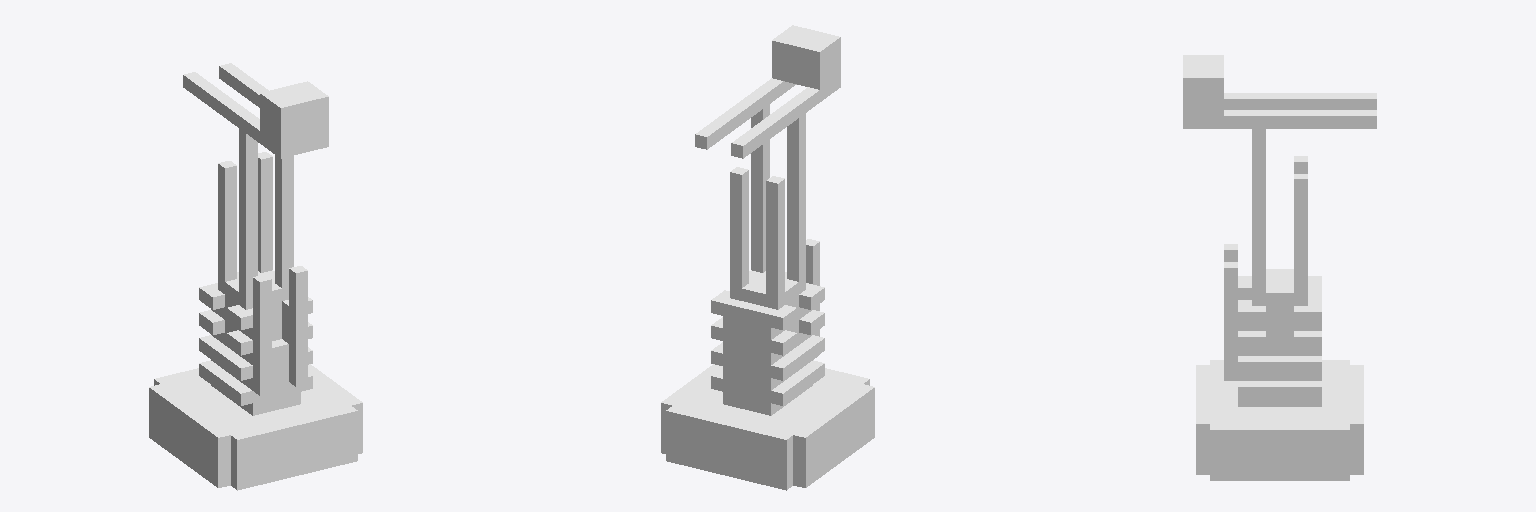
Rendered from wildfire.blue.obj.
3 views of the same model, side by side, from view 1: azimuth 30°, elevation 25°; view 2: azimuth 150°, elevation 25°; view 3: azimuth 270°, elevation 25° (orthographic).
Parts seen in each view (by area): view 1: object 1; view 2: object 1; view 3: object 1.
Boxes of the visible parts, box(x1,y1,x2,y2) form: object 1: box(149, 63, 362, 490); object 1: box(661, 25, 874, 490); object 1: box(1183, 55, 1376, 480).
Bounding box in the file's own units: 1.2 × 3 × 1.4.